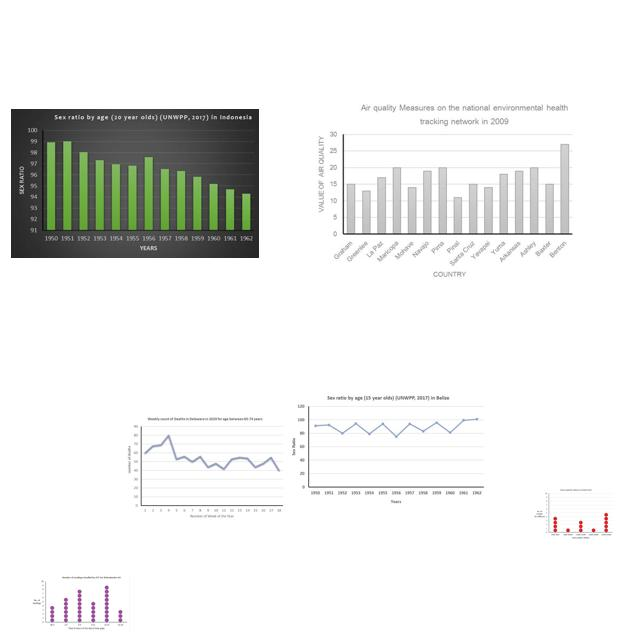Graph: (312, 95, 577, 282), (11, 109, 259, 258), (287, 389, 489, 508), (124, 414, 287, 523), (30, 574, 130, 632), (532, 487, 614, 541)
